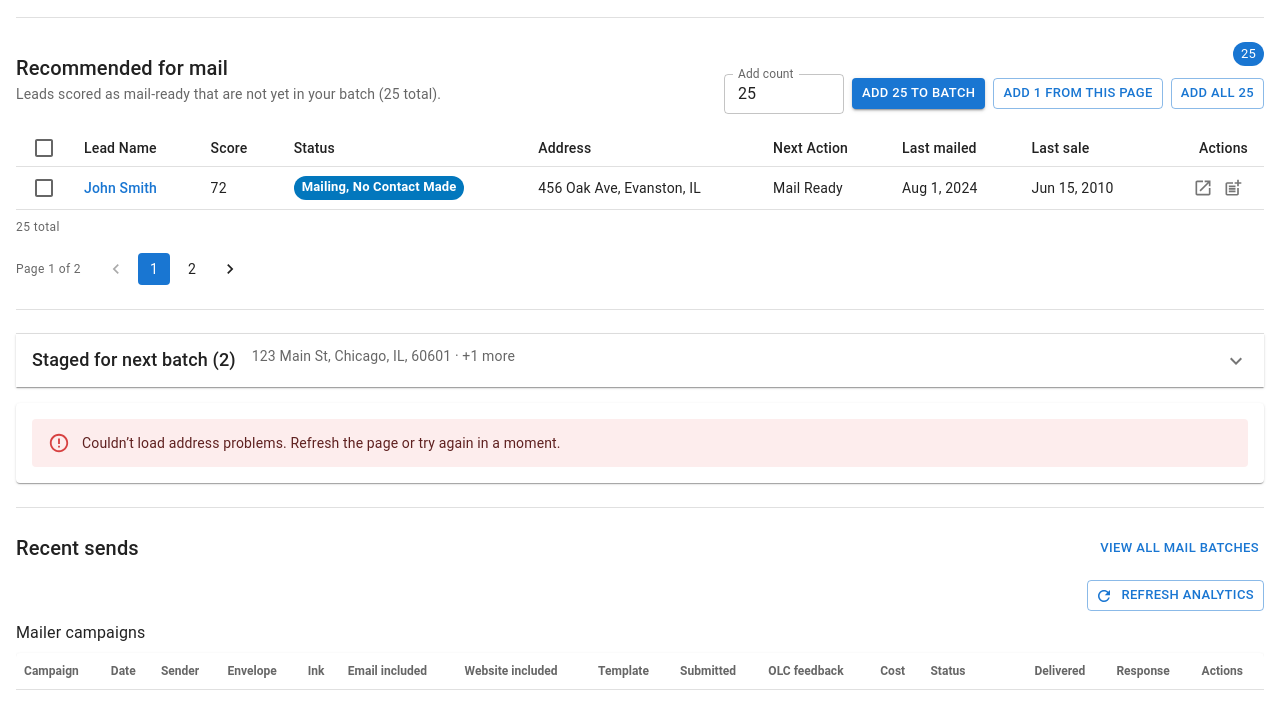
Test: ReadyToMailQueue › hides staged table inside collapsed accordion when items exist
(page scrolled)
Expected: the element with test id "mail-queue-staged-accordion" is shown, [16, 334, 1264, 387]
Step 1. Click the button that starts with "Staged for next batch (" → [125, 360], box [32, 348, 1248, 373]
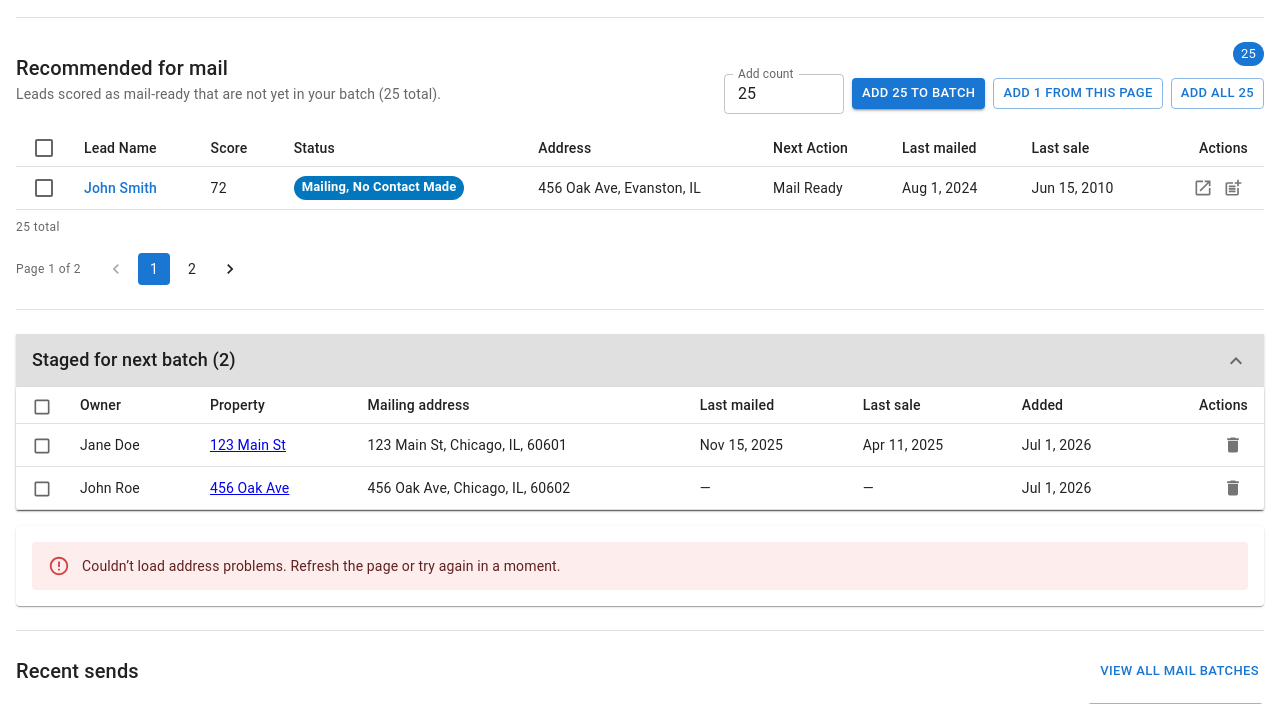
Now the element with test id "mail-queue-staged-table" is shown, box [16, 387, 1264, 510]
Now the link "123 Main St" is shown, box [210, 437, 286, 453]
